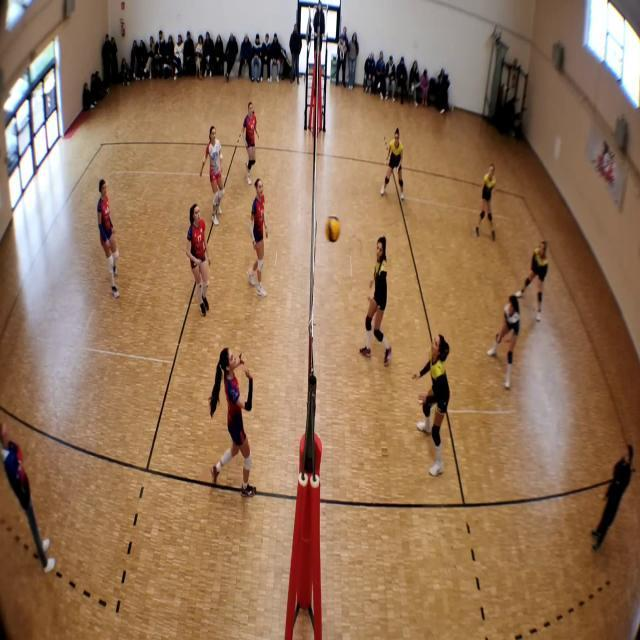volleyball: (325, 215, 341, 243)
